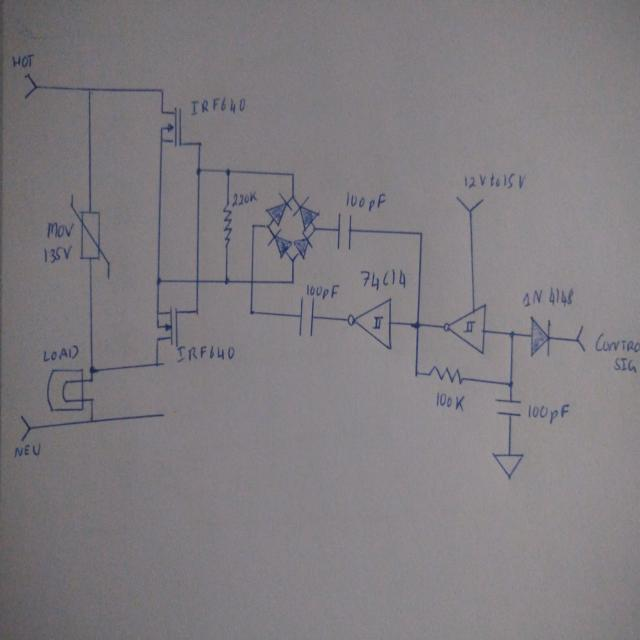capacitor: (294, 296, 318, 338), (492, 392, 522, 422), (334, 211, 354, 251)
crossover: (247, 275, 258, 286), (193, 276, 202, 286)
diode: (528, 314, 553, 360), (266, 192, 292, 226), (293, 197, 318, 229), (267, 229, 291, 257), (293, 232, 312, 259)
ground: (490, 448, 528, 481)
junction: (410, 318, 422, 331), (223, 163, 233, 177), (506, 328, 517, 340), (194, 163, 203, 177), (87, 363, 98, 374), (506, 378, 516, 390), (222, 274, 232, 286), (417, 228, 427, 239), (153, 276, 164, 286), (289, 191, 298, 202), (88, 415, 96, 427), (247, 308, 256, 318), (289, 276, 298, 286), (157, 86, 166, 96), (153, 358, 161, 369), (413, 369, 421, 379), (193, 306, 201, 316), (288, 256, 298, 264), (250, 220, 257, 231), (85, 85, 93, 94), (88, 394, 95, 404), (290, 169, 296, 180), (311, 226, 318, 234), (88, 376, 96, 383), (196, 140, 203, 148), (265, 222, 271, 230), (162, 411, 166, 418)
resistor: (427, 363, 464, 388), (221, 200, 233, 248)
terminal: (453, 193, 487, 214), (573, 322, 589, 355), (21, 71, 39, 100), (17, 413, 30, 442)
text: (188, 91, 248, 118), (461, 170, 526, 192), (358, 266, 408, 292), (522, 285, 574, 308), (526, 400, 571, 426), (175, 344, 236, 362), (594, 330, 640, 353), (344, 189, 386, 212), (40, 343, 79, 364), (434, 390, 466, 413), (41, 242, 74, 264), (304, 280, 340, 300), (44, 219, 75, 240), (231, 187, 259, 208), (12, 439, 42, 456), (612, 356, 637, 374), (11, 51, 35, 68)
transistor: (157, 105, 185, 150), (154, 305, 179, 348)
